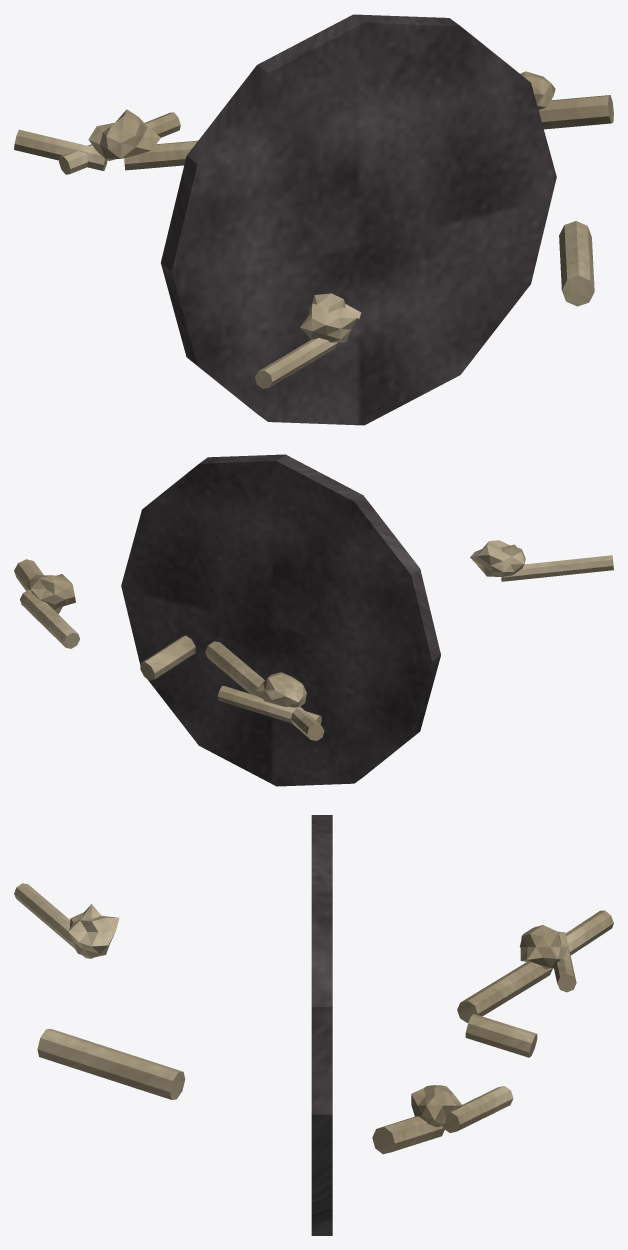
The model's file is 0241_bone_heap_16.glb.
3 renders of one model, top to bottom at view 1: azimuth 30°, elevation 25°; view 2: azimuth 150°, elevation 25°; view 3: azimuth 270°, elevation 25°, orthographic. The views are drawn at different scales.
Visible parts, largest first — view 1: ash, bone; view 2: ash, bone; view 3: bone, ash.
Part boxes in pixels (<box>): ash: <box>161,14,556,425</box>; bone: <box>14,71,613,388</box>; ash: <box>121,454,440,786</box>; bone: <box>14,540,613,740</box>; bone: <box>14,883,613,1154</box>; ash: <box>311,815,332,1235</box>.
Size of the model in its own units: 2.29 by 1.6 by 2.27.
2 materials, 2 textured.
